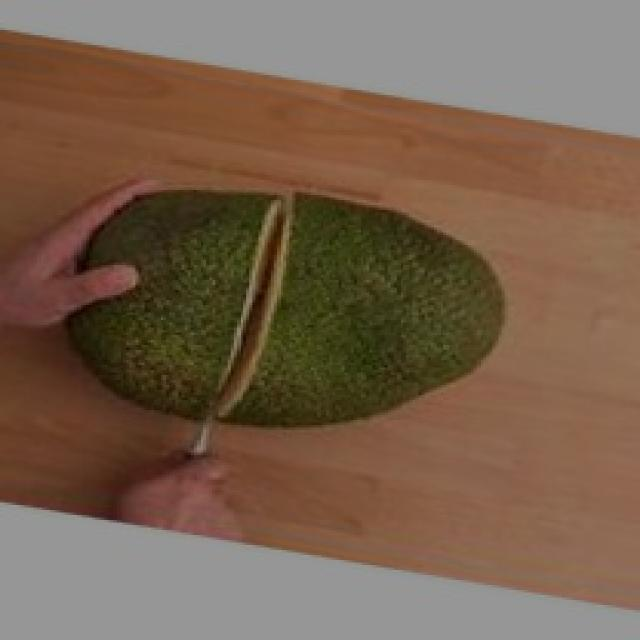Fruit: (194, 182, 532, 458)
